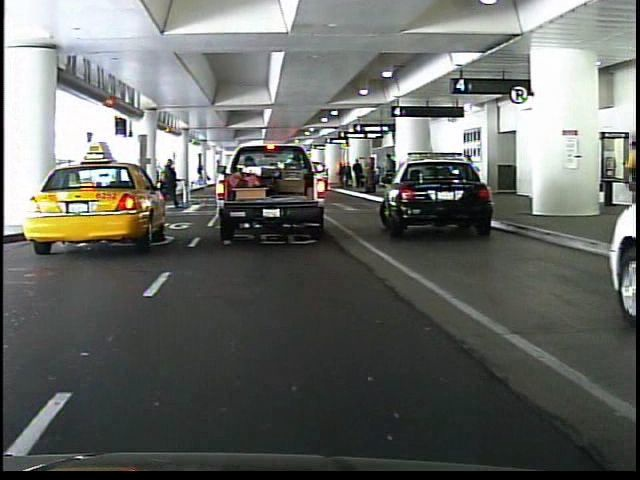person: (233, 147, 256, 202), (159, 154, 177, 204)
